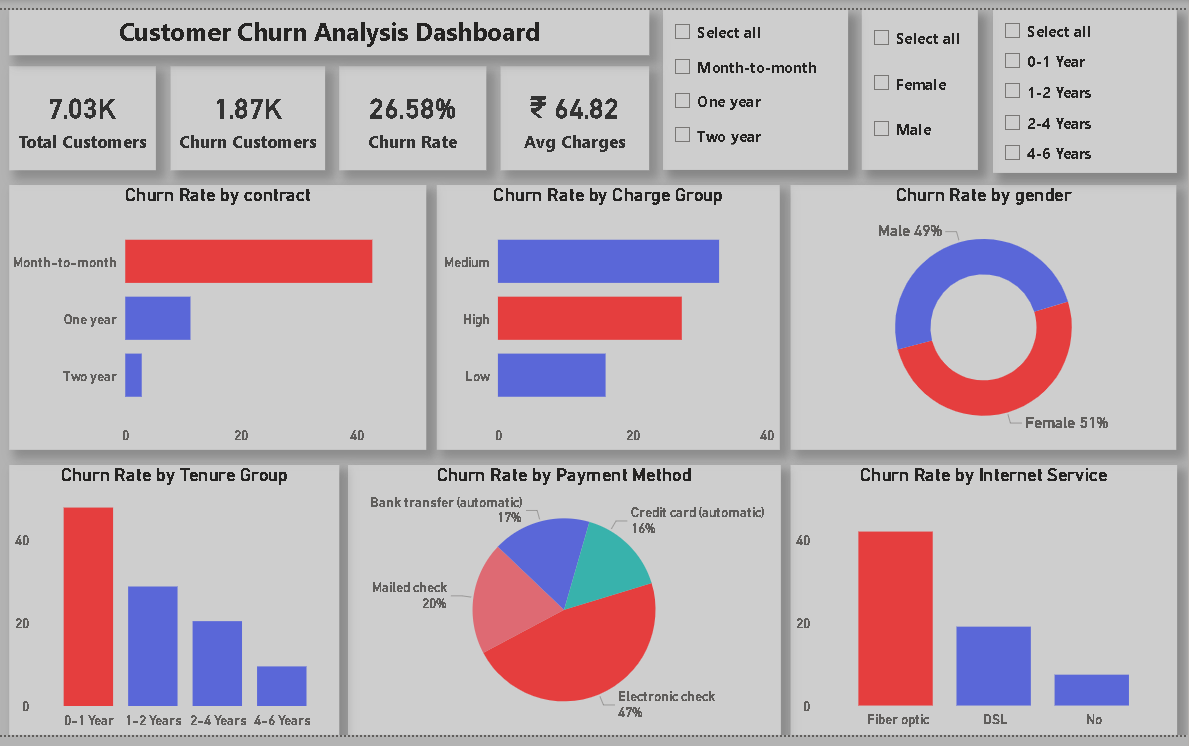

The page's visual inventory and layout, read from the dashboard file:
{"tool":"powerbi","page":{"name":"Page 1","canvas":[1280,780],"ordinal":0},"visuals":[{"type":"card","fields":{"Values":["churn.total_customers"]},"box":[12.1,60.5,157.3,111.6],"z":0},{"type":"card","fields":{"Values":["churn.churn_customers"]},"box":[185.6,60.5,166.8,111.6],"z":1000},{"type":"card","fields":{"Values":["churn.Churn_Rate"]},"box":[367.1,60.5,158.7,111.6],"z":2000},{"type":"card","fields":{"Values":["churn.Avg Charges"]},"box":[540.6,60.5,160,111.6],"z":3000},{"type":"barChart","title":"Churn Rate by contract","fields":{"Category":["churn.contract"],"Y":["churn.Churn %"]},"box":[12.1,188.3,449.2,285.1],"z":4000},{"type":"columnChart","title":"Churn Rate by Tenure Group","fields":{"Category":["churn.tenure_group"],"Y":["churn.Churn %"]},"box":[12.1,489.5,355,290.5],"z":5000},{"type":"barChart","title":"Churn Rate by Charge Group","fields":{"Y":["churn.Churn %"],"Category":["churn.charge_group"]},"box":[472,188.3,368.5,285.1],"z":6000},{"type":"pieChart","title":"Churn Rate by Payment Method","fields":{"Category":["churn.payment_method"],"Y":["churn.Churn %"]},"box":[376.6,489.5,465.3,290.5],"z":7000},{"type":"donutChart","title":"Churn Rate by gender","fields":{"Category":["churn.gender"],"Y":["churn.Churn %"]},"box":[852.6,188.3,415.6,285.1],"z":8000},{"type":"textbox","box":[12.1,0,688.6,48.4],"z":9000},{"type":"columnChart","title":"Churn Rate by Internet Service","fields":{"Category":["churn.internet_service"],"Y":["churn.Churn %"]},"box":[853,490,416,290],"z":10000},{"type":"slicer","fields":{"Values":["churn.contract"]},"box":[715.4,0,199,172.1],"z":11000},{"type":"slicer","fields":{"Values":["churn.gender"]},"box":[929.3,0,125.1,172.1],"z":11001},{"type":"slicer","fields":{"Values":["churn.tenure_group"]},"box":[1070.5,0,197.7,174.8],"z":11002}]}

Visuals, with their boxes in screenshot pixels (x1, y1, x2, y2), scaled from the page's 1280x780 canvas onto the 1189x746 screenshot:
card - churn.total_customers: <bbox>11, 58, 157, 165</bbox>
card - churn.churn_customers: <bbox>172, 58, 327, 165</bbox>
card - churn.Churn_Rate: <bbox>341, 58, 488, 165</bbox>
card - churn.Avg Charges: <bbox>502, 58, 651, 165</bbox>
"Churn Rate by contract" barChart: <bbox>11, 180, 429, 453</bbox>
"Churn Rate by Tenure Group" columnChart: <bbox>11, 468, 341, 745</bbox>
"Churn Rate by Charge Group" barChart: <bbox>438, 180, 781, 453</bbox>
"Churn Rate by Payment Method" pieChart: <bbox>350, 468, 782, 745</bbox>
"Churn Rate by gender" donutChart: <bbox>792, 180, 1178, 453</bbox>
textbox: <bbox>11, 0, 651, 46</bbox>
"Churn Rate by Internet Service" columnChart: <bbox>792, 469, 1179, 745</bbox>
slicer - churn.contract: <bbox>665, 0, 849, 165</bbox>
slicer - churn.gender: <bbox>863, 0, 979, 165</bbox>
slicer - churn.tenure_group: <bbox>994, 0, 1178, 167</bbox>
